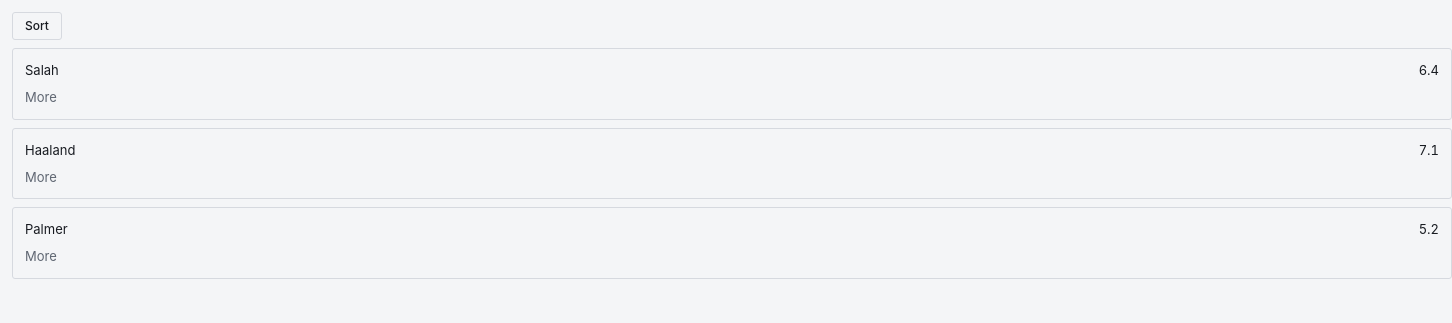
Test: DataTable › collapses to cards showing only the primary columns
Expected: the text "Salah" is shown, [25,61,59,80]
Expected: the text "6.4" is shown, [1419,61,1439,80]
Step 1. Click the button "More" below "Salah" → (41, 97), box [25,88,57,107]
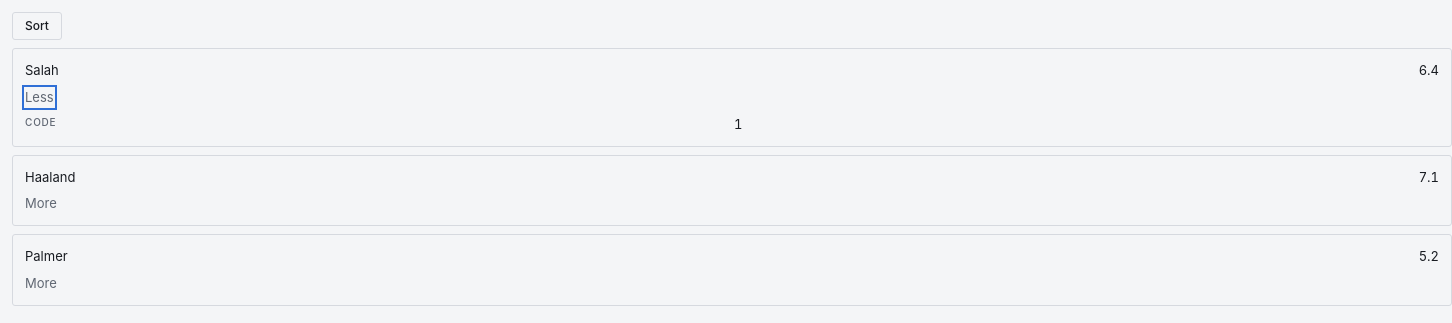
Expected: the text "Code" is shown, [25,116,56,128]
